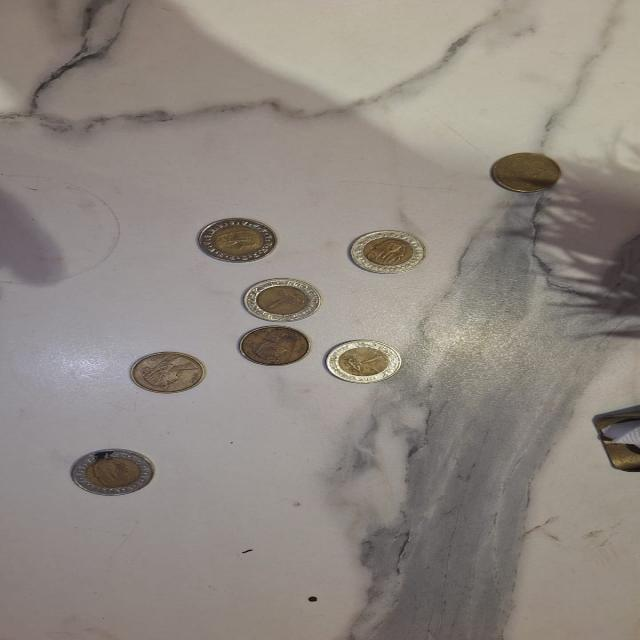Half Pound: (482, 150, 573, 197), (128, 351, 210, 395), (239, 322, 314, 368)
One Pound: (189, 213, 289, 266), (67, 447, 161, 499), (346, 227, 431, 277), (325, 338, 404, 386), (243, 276, 324, 320)
